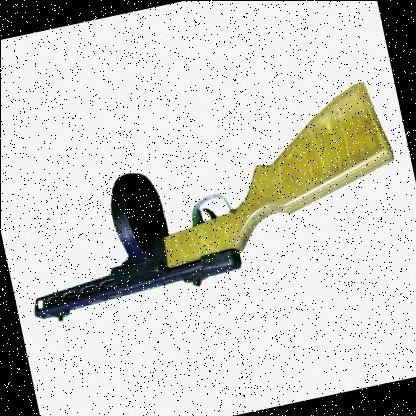rifle: (0, 86, 416, 346)
